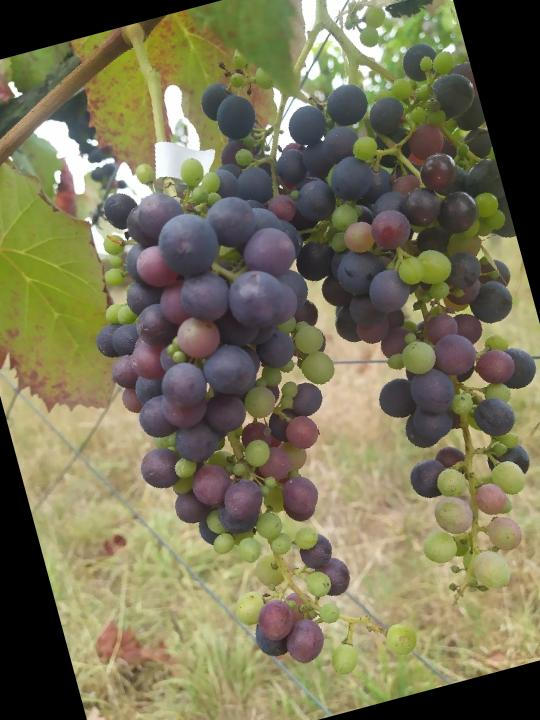grape: (188, 0, 540, 634), (52, 125, 426, 717)
